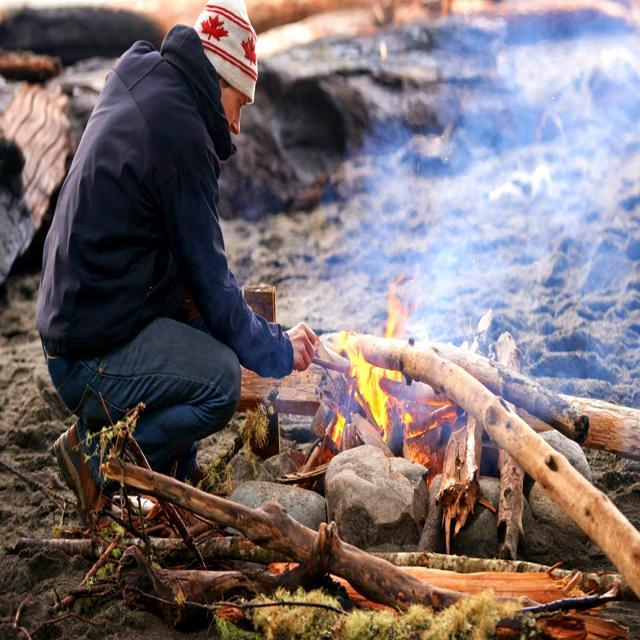Fire: (318, 318, 390, 452)
Smoke: (361, 0, 640, 384)
